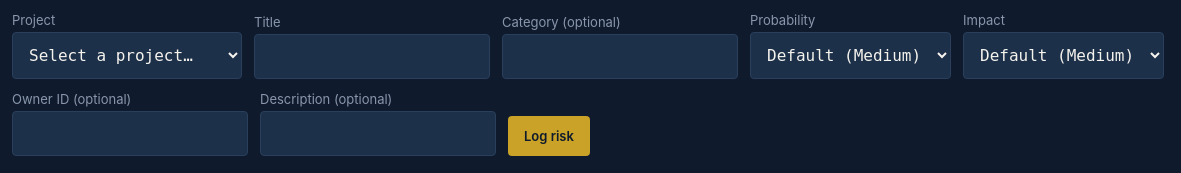
Scenario: CreateRiskForm › shows the action-returned error message on failure
Select "PRJ-001 — The Shore" in the dropdown labelled "Project" at (127, 56), box [12,32,242,79]
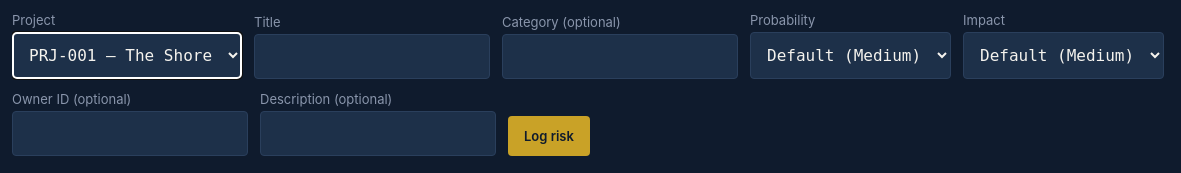
Type "Contractor delay on Phase 2" into the field labelled "Title" at (372, 56), box [254,34,490,79]
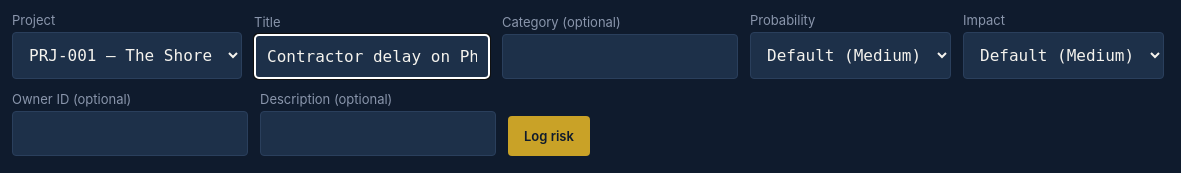
Click the button "Log risk" at (549, 136), box [508,116,590,156]
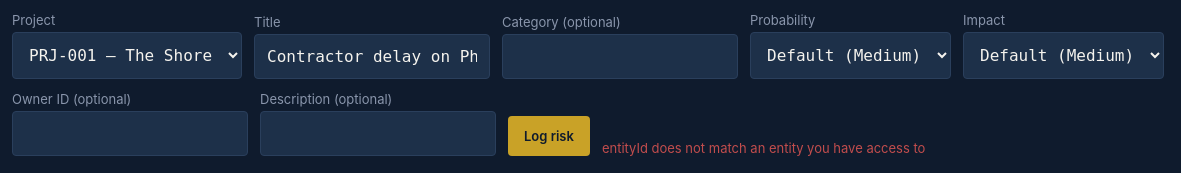
Result: the text "entityId does not match an entity you have access to" is shown at [602,140,925,156]
